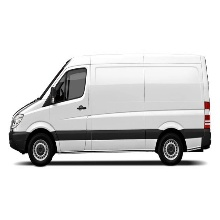no damage: (9, 54, 212, 167)
